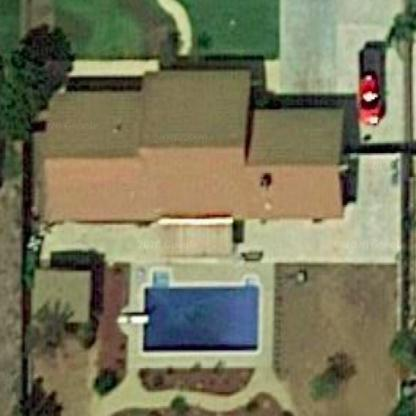car: (346, 54, 384, 127)
swimming_pool: (120, 263, 273, 364)
